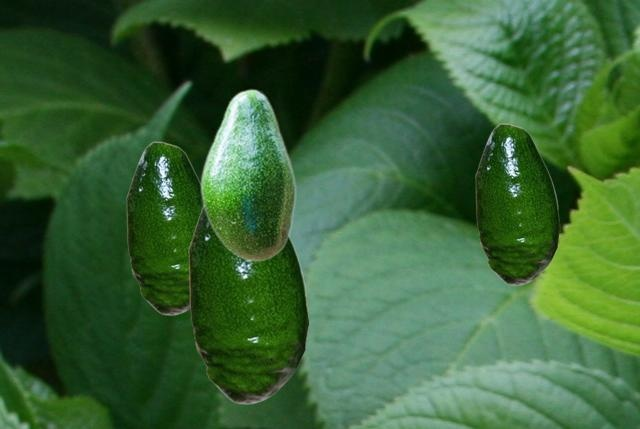avocado: (188, 206, 308, 403), (199, 88, 295, 261), (475, 123, 559, 284), (126, 141, 201, 314)
